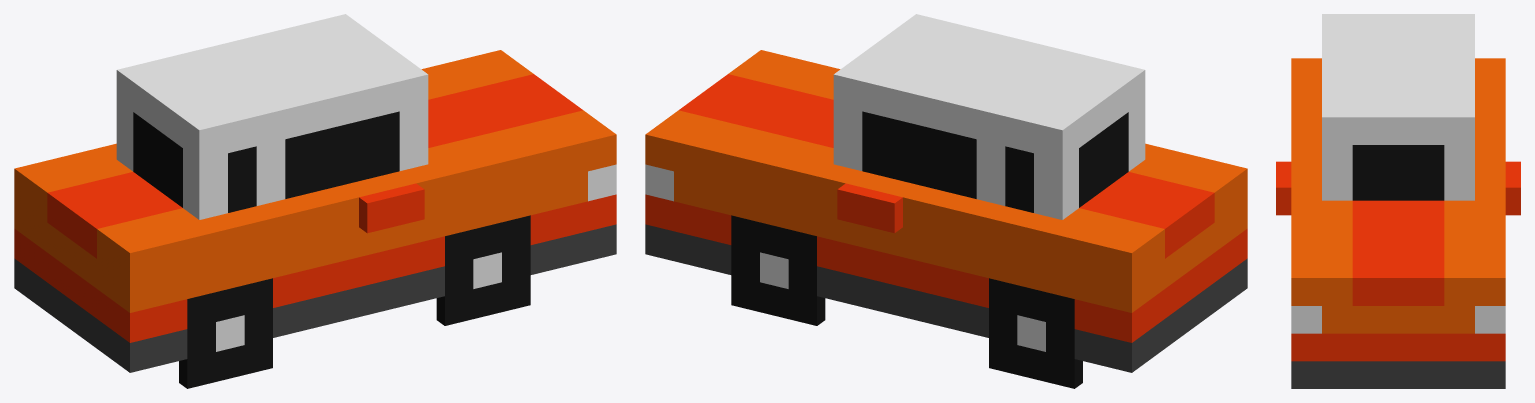
The model's file is roady_cross_assets-7.obj.
3 renders of one model, left to right at view 1: azimuth 30°, elevation 25°; view 2: azimuth 150°, elevation 25°; view 3: azimuth 270°, elevation 25°, orthographic. The views are drawn at different scales.
Bounding box in the file's own units: 3.4 × 1.6 × 1.6.
1 material, 1 textured.
